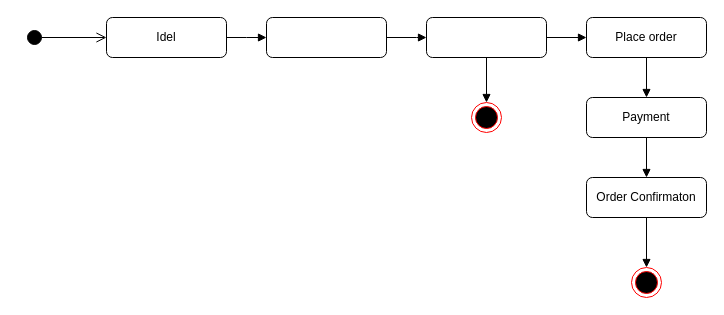
The diagram is 724 pixels wide and 315 high, and some of its shapes have lost their labels. Here are the shapes that lost their labels. From the top down, the centre of each, then its label:
At (x=326, y=37): "Login".
At (x=486, y=37): "Search/View Products".
